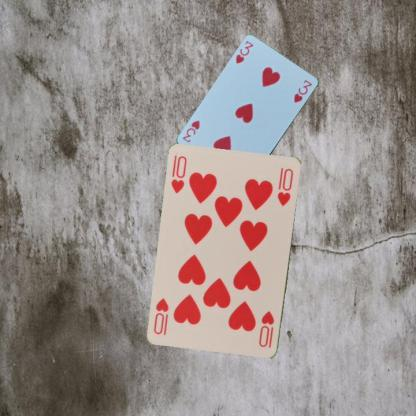10h: (256, 308, 276, 350), (169, 153, 188, 195)
3h: (233, 39, 255, 65)
